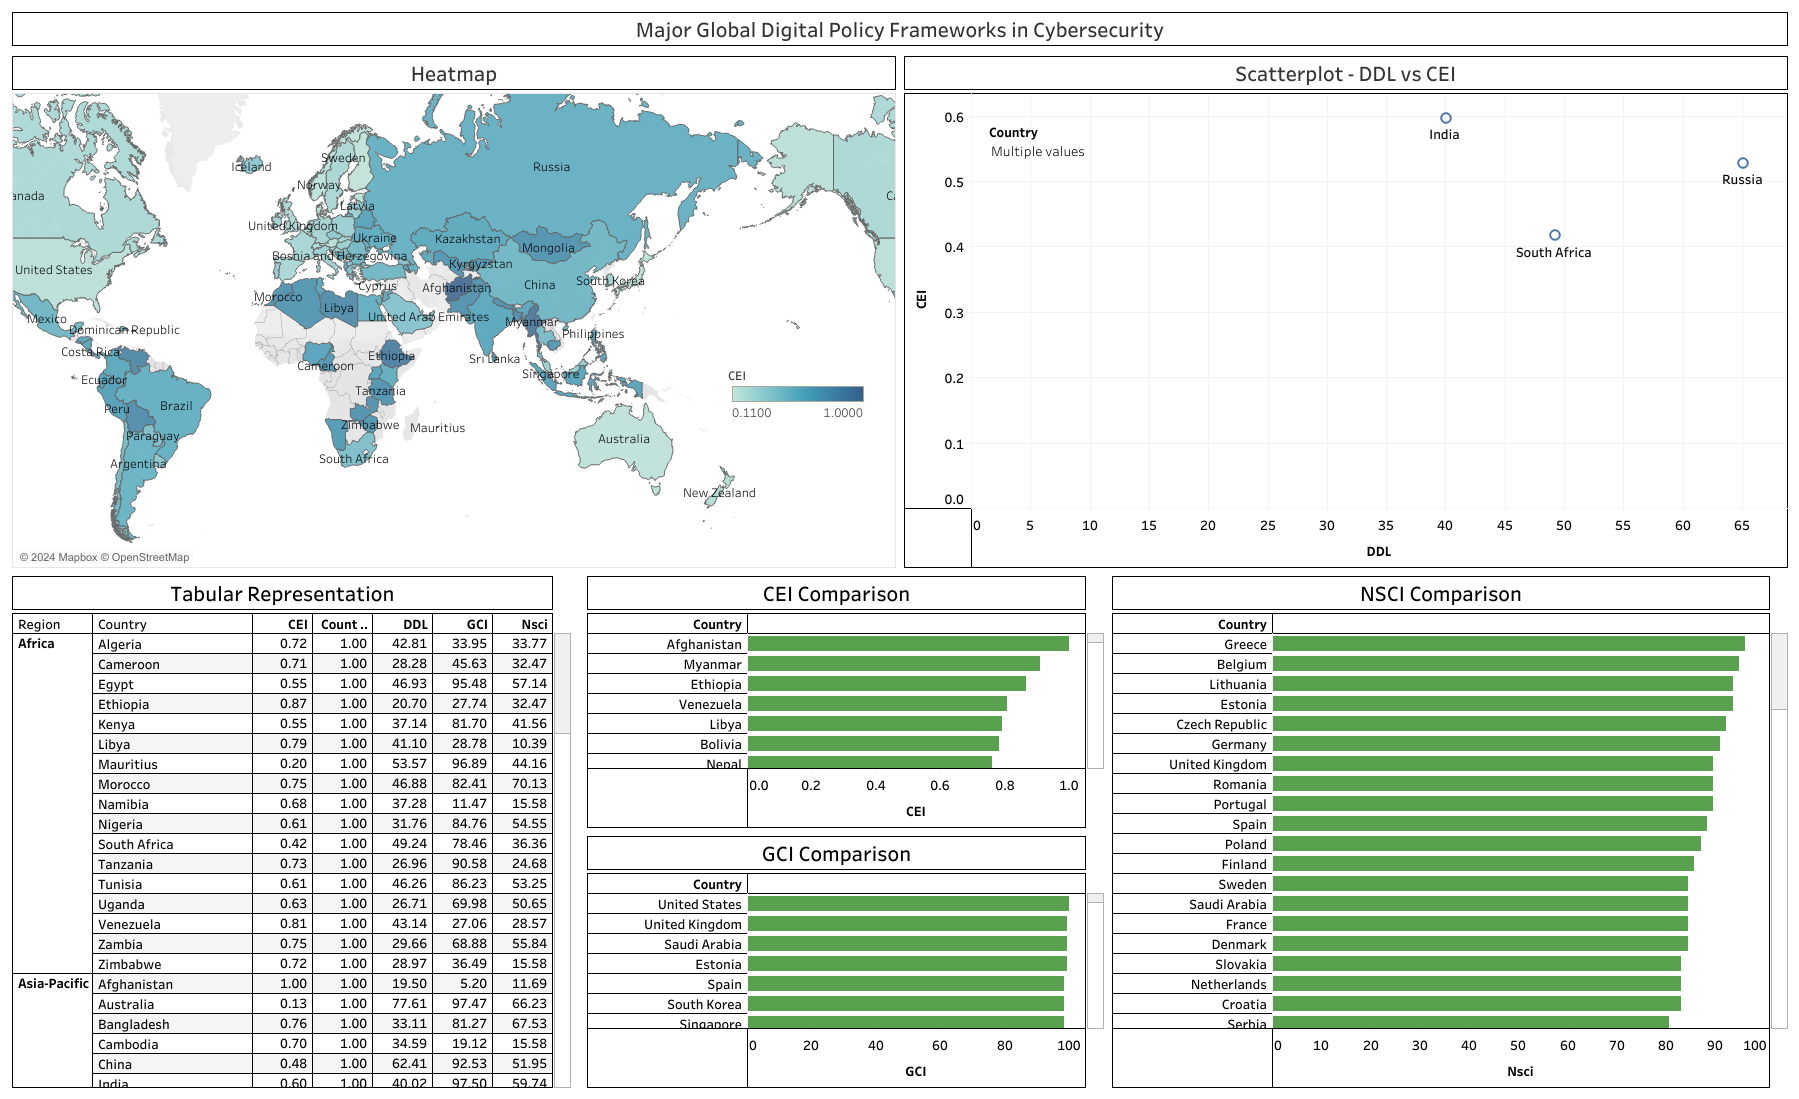

The page's visual inventory and layout, read from the dashboard file:
{"tool":"tableau","page":{"name":"Dashboard 1","canvas":[1800,1100],"ordinal":0},"visuals":[{"type":"worksheet","title":"Title","mark":"Automatic","box":[8,8,1784,44]},{"type":"worksheet","title":"Heatmap","mark":"Automatic","box":[8,52,892,520]},{"type":"worksheet","title":"Scatterplot- DDL vs CEI","mark":"Automatic","rows":["CEI"],"cols":["DDL"],"box":[900,52,892,520]},{"type":"filter","title":"Scatterplot- DDL vs CEI","param":"[federated.02535th17c7agi111m97o1g4f18s].[none:Country:nk]","box":[989,121,168,53]},{"type":"legend","title":"Heatmap","param":"[federated.02535th17c7agi111m97o1g4f18s].[sum:CEI:qk]","box":[728,362,140,81]},{"type":"worksheet","title":"Table","mark":"Automatic","rows":["Region","Country"],"box":[8,572,575,520]},{"type":"worksheet","title":"Bar Chart- CEI","mark":"Automatic","rows":["Country"],"cols":["CEI"],"box":[583,572,525,260]},{"type":"worksheet","title":"Bar Chart- NSCI","mark":"Automatic","rows":["Country"],"cols":["NSCI"],"box":[1108,572,684,520]},{"type":"worksheet","title":"Bar Chart- GCI","mark":"Automatic","rows":["Country"],"cols":["GCI"],"box":[583,832,525,260]}]}

Visuals, with their boxes in screenshot pixels (x1, y1, x2, y2), scaled from the page's 1800x1100 canvas onto the 1799x1099 screenshot:
"Title" worksheet: pyautogui.locateOnScreen(8, 8, 1791, 52)
"Heatmap" worksheet: pyautogui.locateOnScreen(8, 52, 900, 571)
"Scatterplot- DDL vs CEI" worksheet: pyautogui.locateOnScreen(900, 52, 1791, 571)
"Scatterplot- DDL vs CEI" filter: pyautogui.locateOnScreen(988, 121, 1156, 174)
"Heatmap" legend: pyautogui.locateOnScreen(728, 362, 868, 443)
"Table" worksheet: pyautogui.locateOnScreen(8, 571, 583, 1091)
"Bar Chart- CEI" worksheet: pyautogui.locateOnScreen(583, 571, 1107, 831)
"Bar Chart- NSCI" worksheet: pyautogui.locateOnScreen(1107, 571, 1791, 1091)
"Bar Chart- GCI" worksheet: pyautogui.locateOnScreen(583, 831, 1107, 1091)
